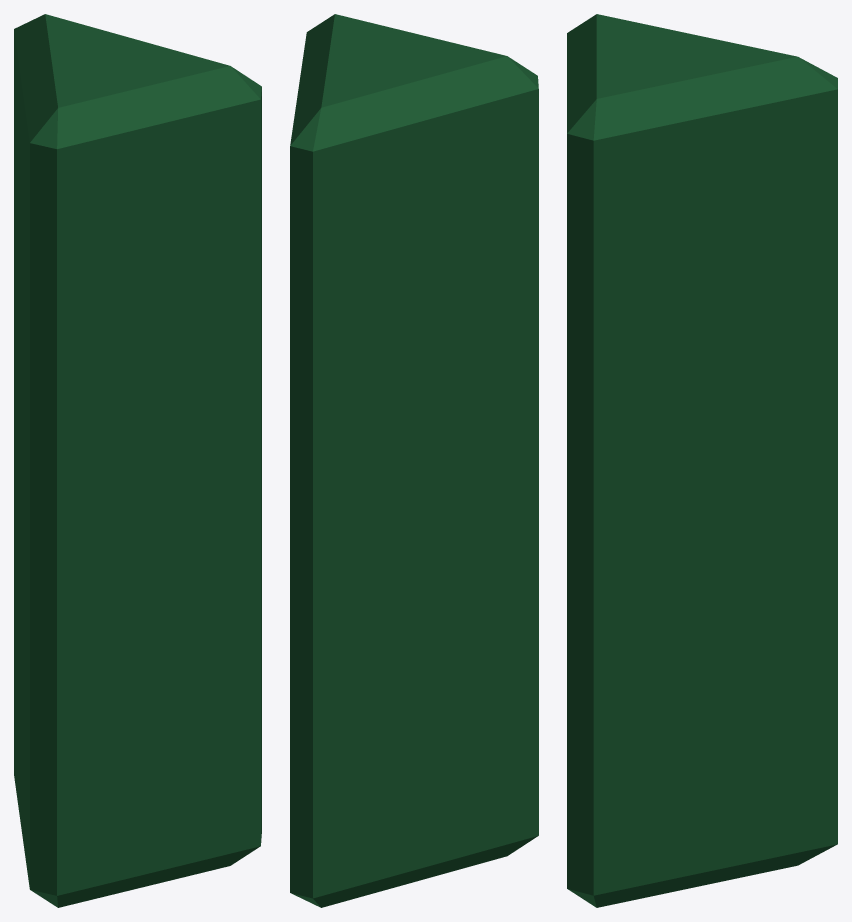
3 views of the same model, side by side, from view 1: azimuth 30°, elevation 25°; view 2: azimuth 150°, elevation 25°; view 3: azimuth 270°, elevation 25° (orthographic).
Parts seen in each view (by area): view 1: 平面; view 2: 平面; view 3: 平面.
Boxes of the visible parts, x1,y1,x2,y2 form: 平面: [14, 14, 261, 907]; 平面: [290, 14, 538, 907]; 平面: [567, 14, 837, 907].
Size of the model in its own units: 182 by 600 by 182.
